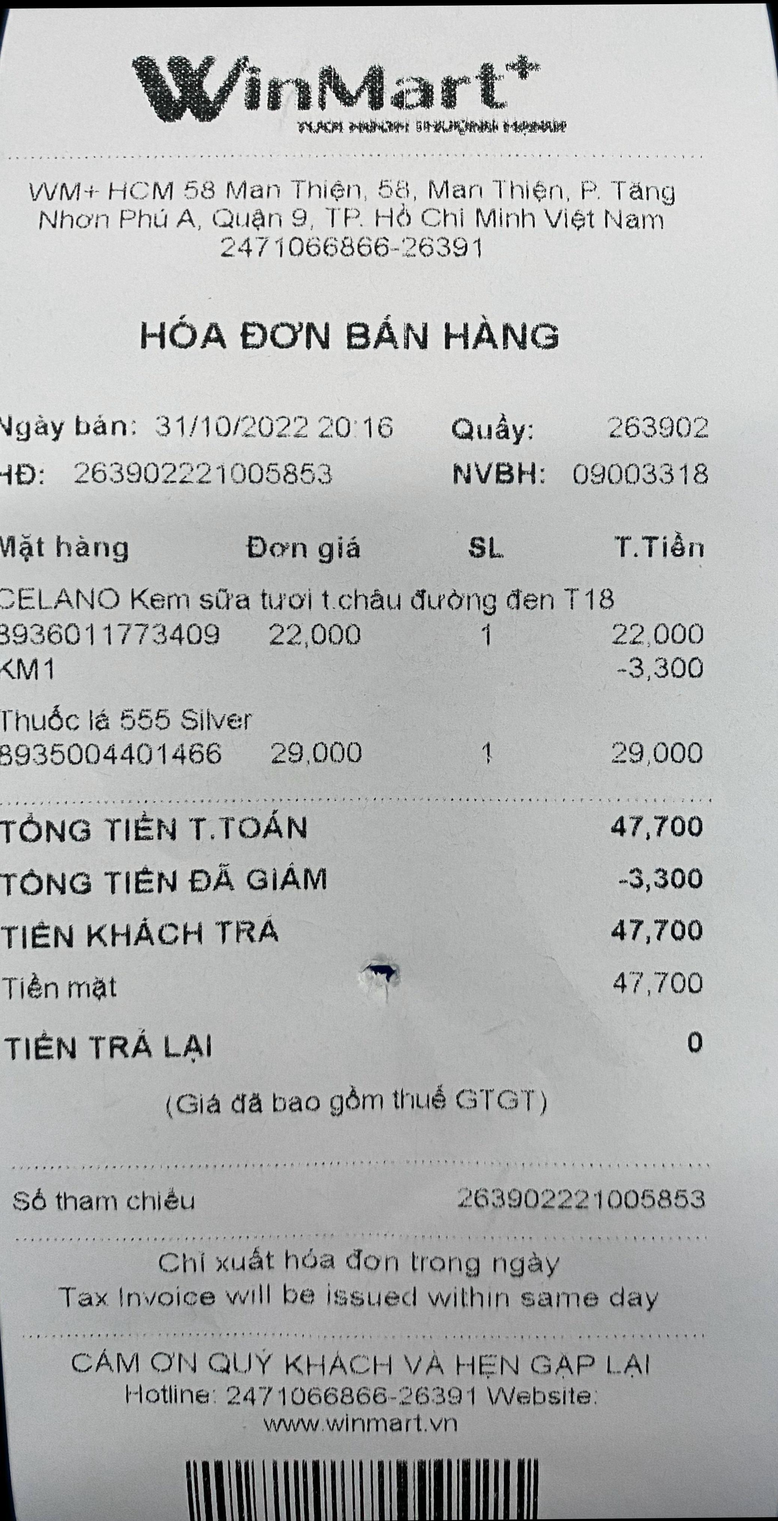Date: (146, 398, 314, 451)
Store_Name: (71, 23, 630, 142)
Total_Amount: (0, 790, 723, 861)
